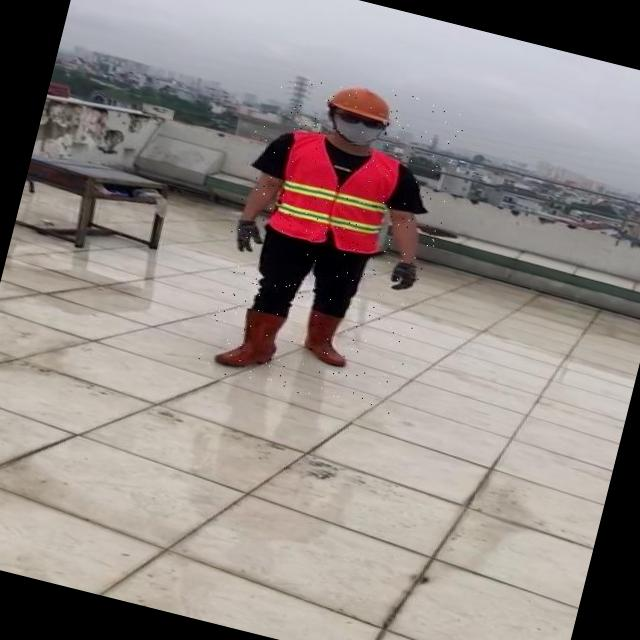boots: (200, 297, 282, 375), (292, 307, 359, 371)
helmet: (324, 76, 400, 126)
vest: (262, 126, 406, 259)
